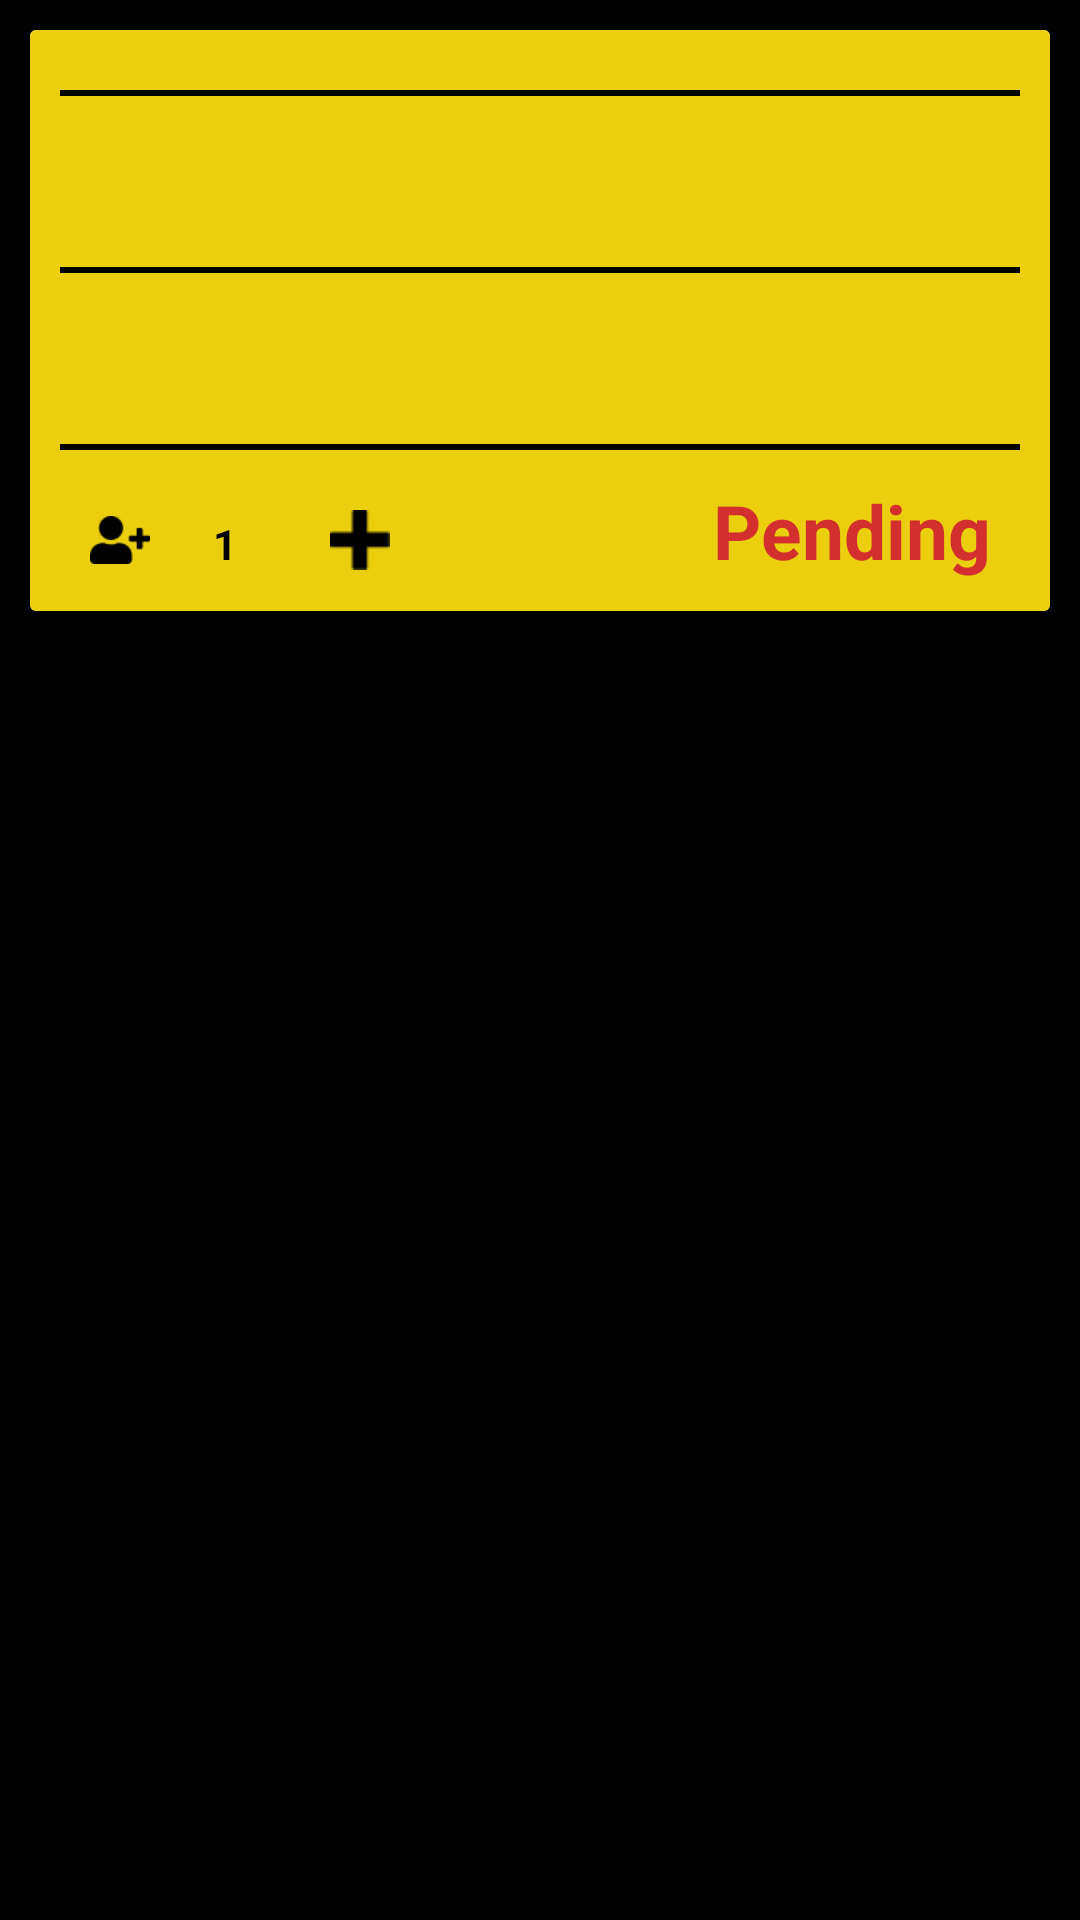

Where to tap for icons on this 1080×1920 app screen, as (x,y):
plus: (360,540)
user: (120,540)
